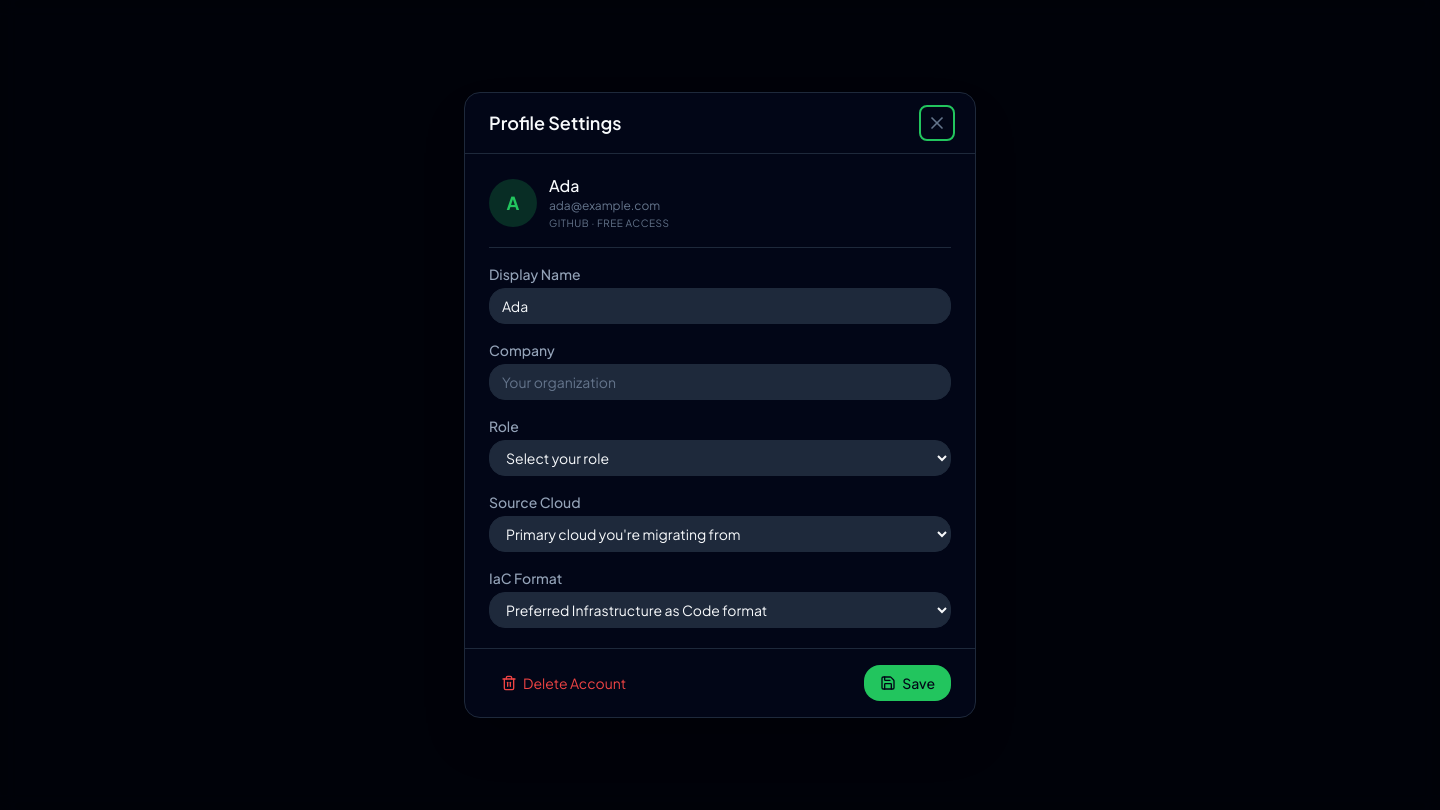
Scenario: ProfilePage › announces save status with themed status styling
The image size is (1440, 810).
Click the button "Save".
click(908, 683)  # box [864,665,951,701]
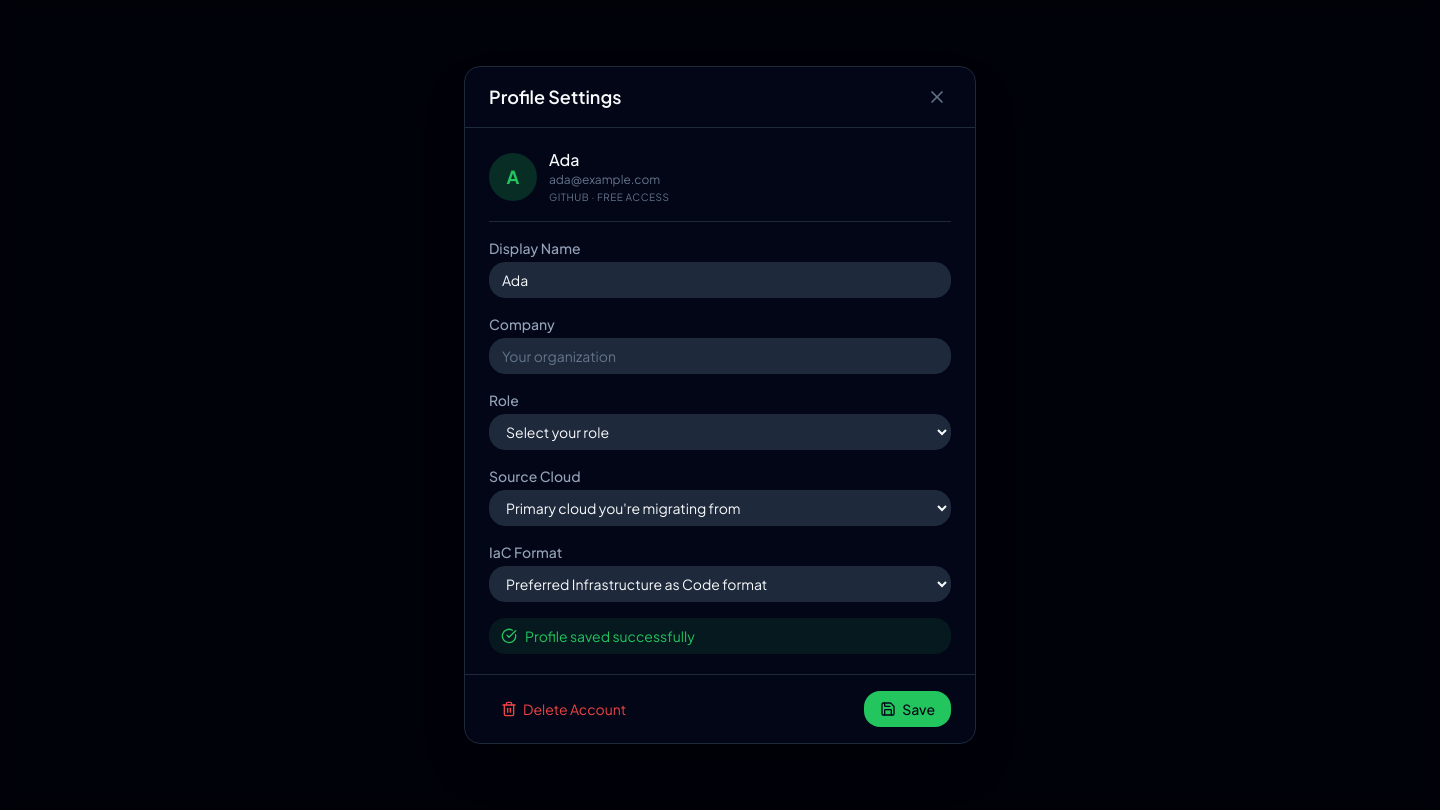
Check: the message reads "Profile saved successfully", box [525,627,695,645]
